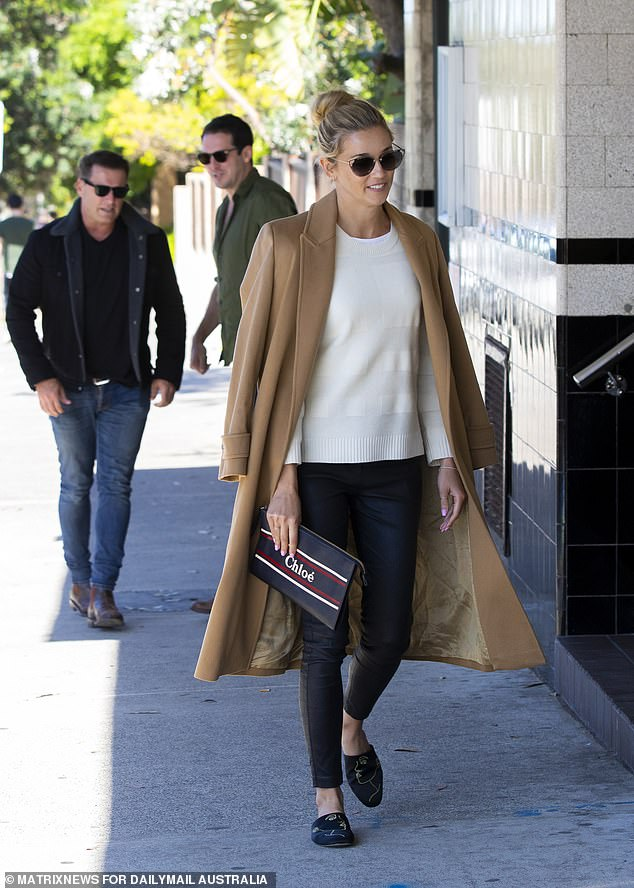Person: (265, 89, 542, 845), (8, 150, 188, 630), (197, 108, 296, 222)
